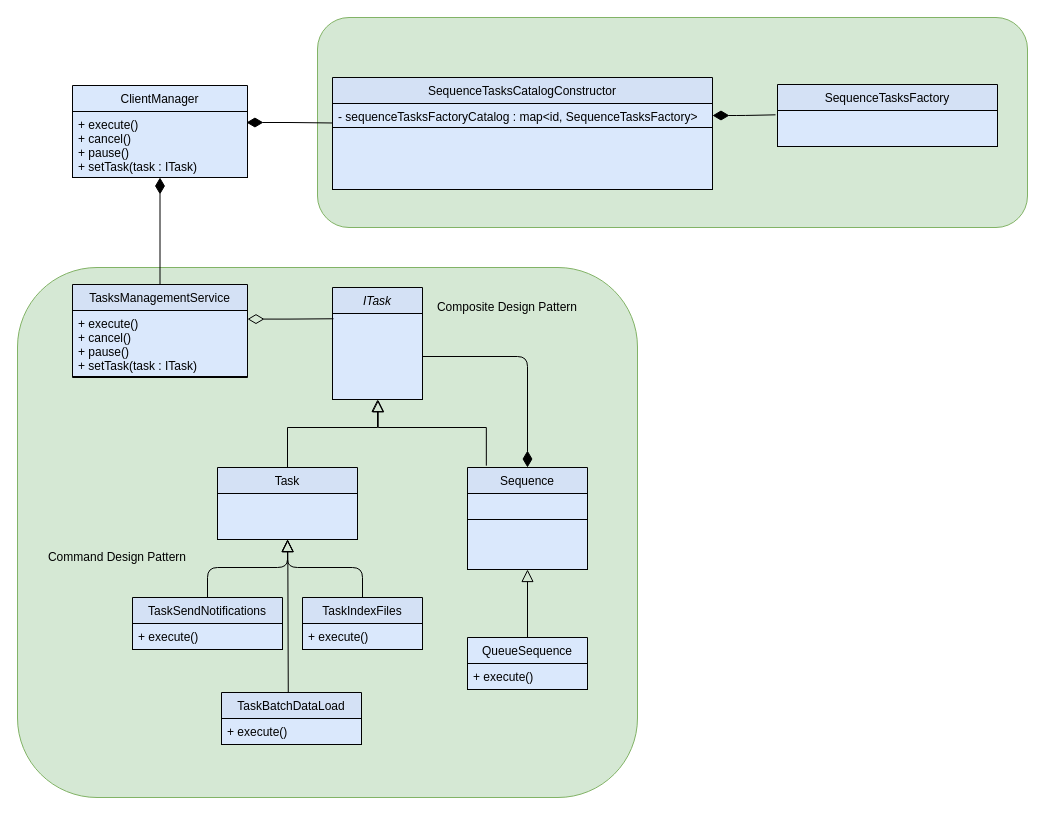
This 1045x815 diagram has some shape labels left out. Each missing label, with the centre of its shape:
"#init() + build (id : short) + getSequenceIds() : int[]" goes at (522,158).
"+ add(exe : ITask) + execute() + resume()" goes at (527,544).
"+ build () : ITask" goes at (887,128).
"+ execute() + cancel()" goes at (287,516).
"+ execute() + cancel() + pause() + resume() + getState()" goes at (377,356).
"- tasks : List [ITask]" goes at (527,506).
